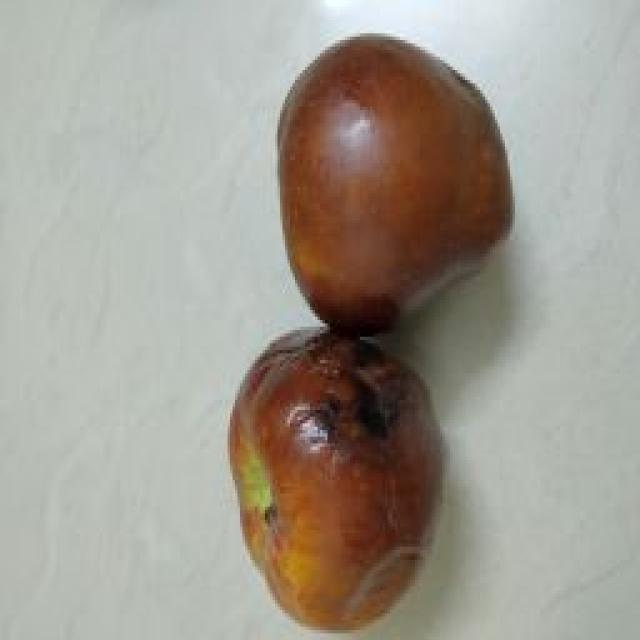Bad_Apple: (230, 330, 441, 629)
